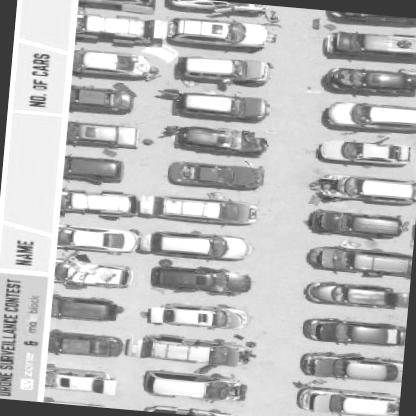car: (127, 333, 250, 368), (140, 227, 254, 263), (306, 242, 412, 279), (305, 206, 412, 242), (300, 314, 406, 350), (308, 170, 415, 205), (298, 348, 402, 384), (320, 98, 415, 137), (148, 261, 253, 296), (321, 62, 415, 101), (142, 193, 260, 224), (144, 298, 254, 331), (303, 276, 409, 310), (315, 134, 415, 170), (140, 369, 246, 402), (175, 89, 270, 124), (169, 14, 274, 45), (175, 123, 270, 157), (295, 385, 400, 415), (166, 158, 262, 190), (325, 27, 415, 61), (73, 46, 151, 82), (177, 52, 273, 81), (54, 258, 135, 291), (66, 120, 142, 152), (76, 12, 152, 44), (61, 188, 137, 218), (71, 82, 138, 114), (51, 294, 121, 323), (49, 330, 124, 357), (60, 226, 136, 252), (167, 0, 271, 18), (64, 152, 125, 182), (45, 368, 118, 392), (78, 0, 154, 9)
